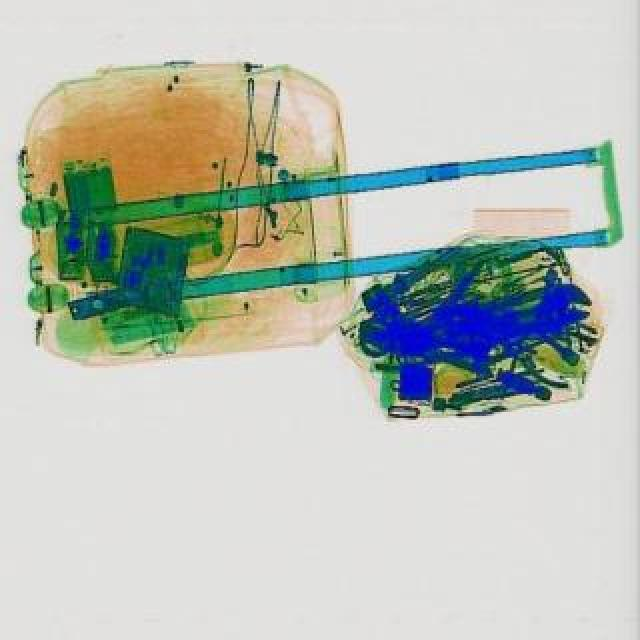scissors: (358, 278, 600, 362)
